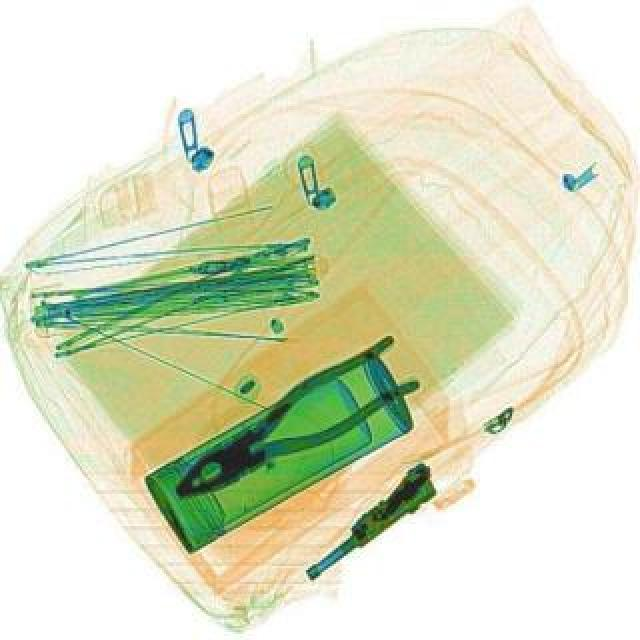gun: (288, 456, 448, 584)
wrench: (154, 328, 426, 516)
